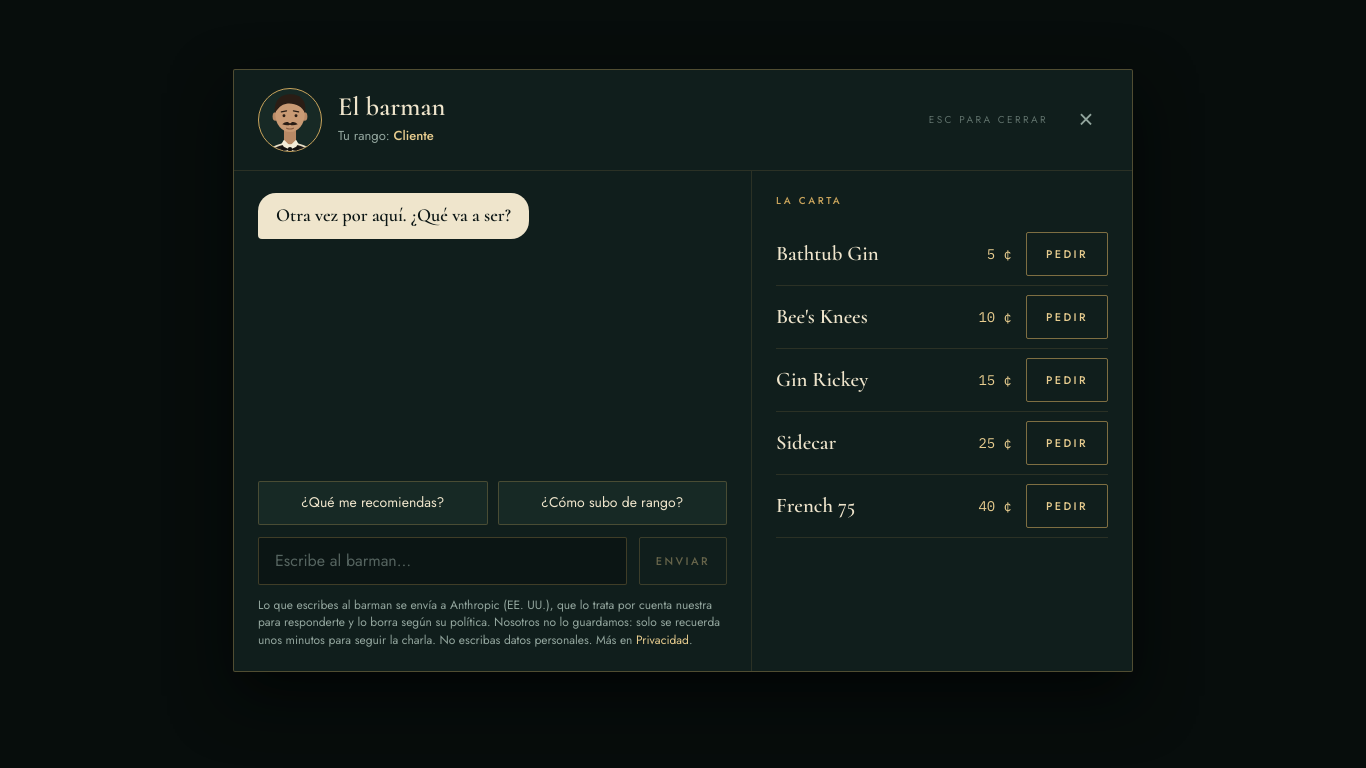
Test: BarWindow › answers the rank chip with the display name of the current rank
This screenshot has width=1366, height=768.
Click the button with class "chip" showing "¿Cómo subo de rango?": click(612, 503) x1=498 y1=481 x2=727 y2=525
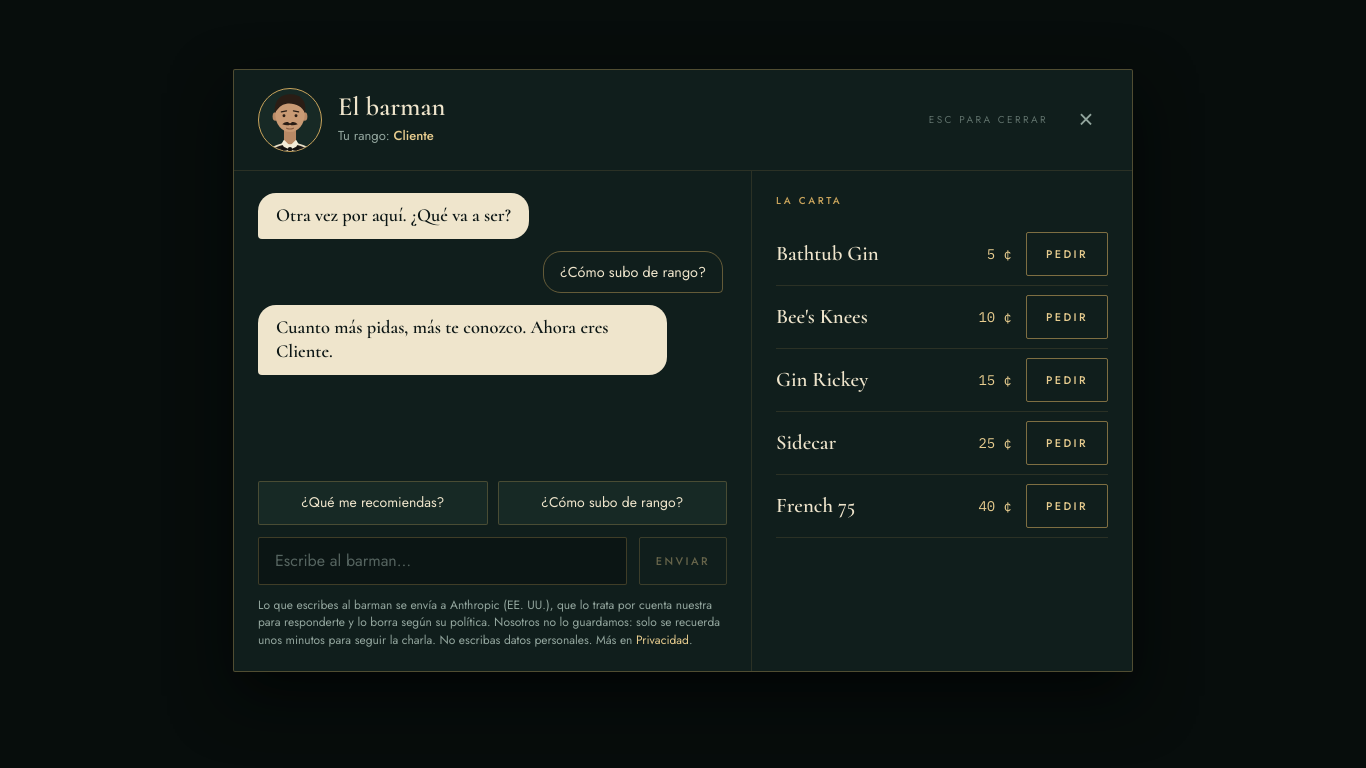
Now the text with class "bubble" reads "Cuanto más pidas, más te conozco. Ahora eres Cliente.", box x1=276 y1=316 x2=608 y2=362
